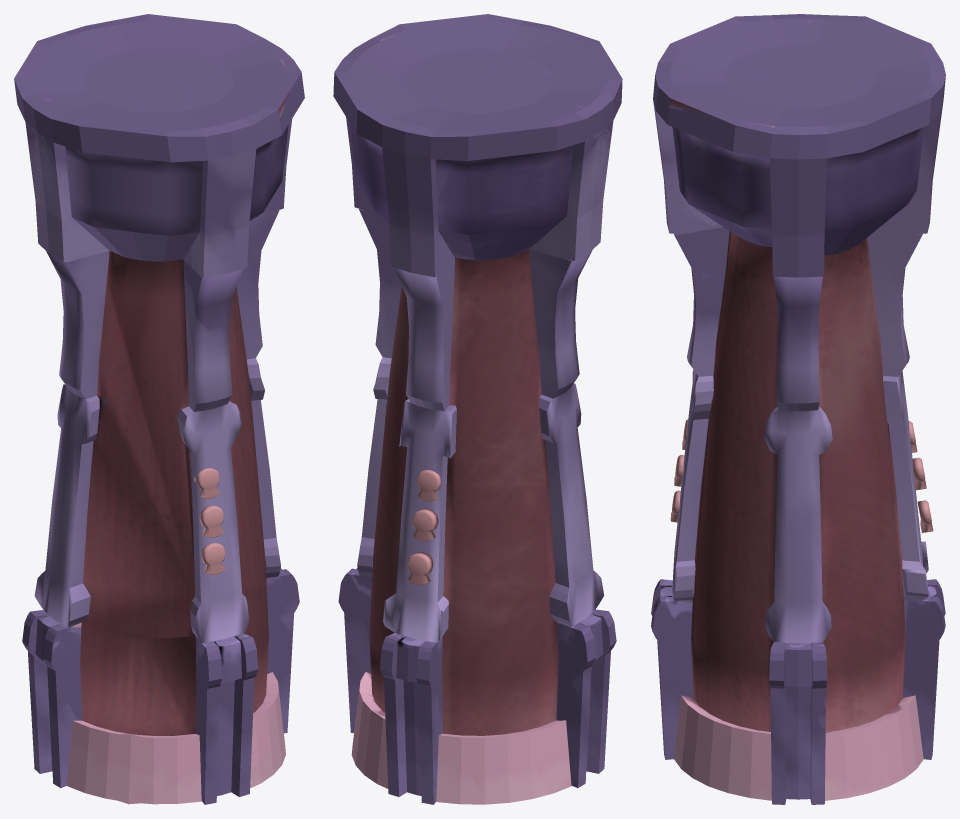
File: pillar.fbx
3 renders of one model, left to right at view 1: azimuth 30°, elevation 25°; view 2: azimuth 150°, elevation 25°; view 3: azimuth 270°, elevation 25°, orthographic.
Parts seen in each view (by area): view 1: Cylinder, Cylinder.001; view 2: Cylinder, Cylinder.001; view 3: Cylinder, Cylinder.001.
Part boxes in pixels (x1=…): Cylinder: x1=14, y1=14, x2=304, y2=804; Cylinder.001: x1=194, y1=468, x2=225, y2=574; Cylinder: x1=333, y1=14, x2=622, y2=804; Cylinder.001: x1=407, y1=470, x2=441, y2=585; Cylinder: x1=651, y1=14, x2=945, y2=804; Cylinder.001: x1=670, y1=419, x2=933, y2=532.
Size of the model in its own units: 348 by 895 by 352.
